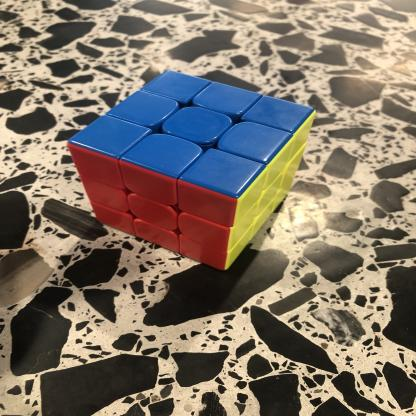SolvedCube: (58, 61, 321, 271)
